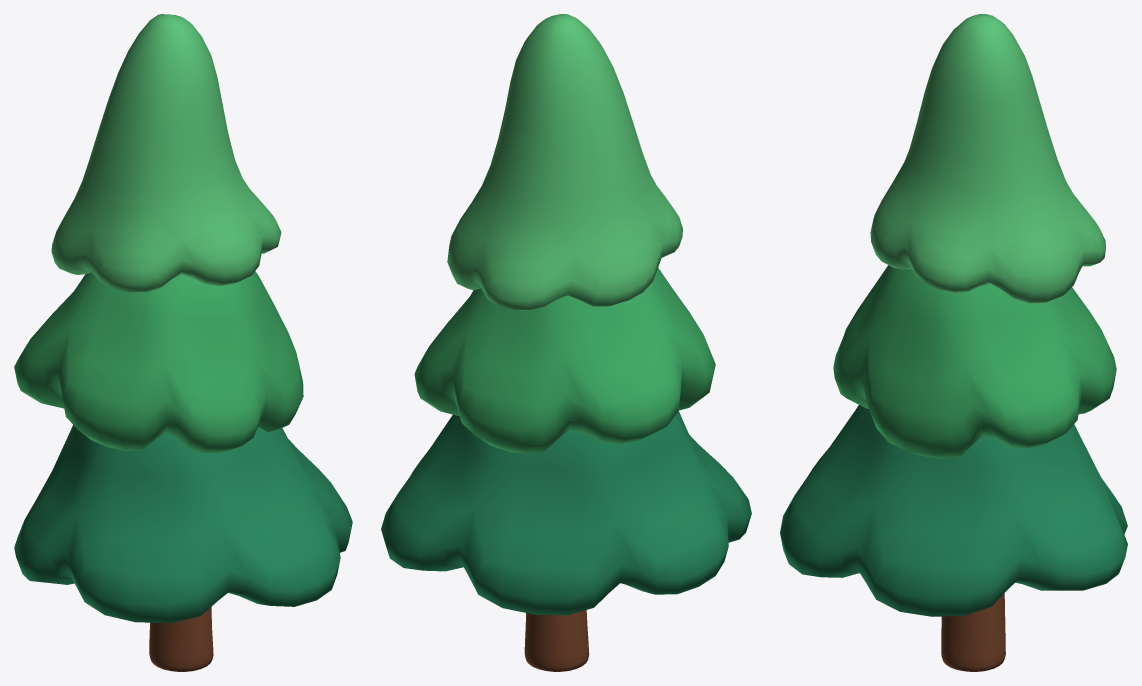
File: Conifer_03.fbx
3 views of the same model, side by side, from view 1: azimuth 30°, elevation 25°; view 2: azimuth 150°, elevation 25°; view 3: azimuth 270°, elevation 25° (orthographic).
Visible parts, largest first — view 1: Conifer_03_LOD0; view 2: Conifer_03_LOD0; view 3: Conifer_03_LOD0.
Boxes of the visible parts, left/top/right/bottom form: Conifer_03_LOD0: left=14, top=14, right=352, bottom=671; Conifer_03_LOD0: left=381, top=14, right=751, bottom=671; Conifer_03_LOD0: left=780, top=14, right=1127, bottom=671.
Size of what is drawn, in the model's own units: 504 by 1011 by 498.
